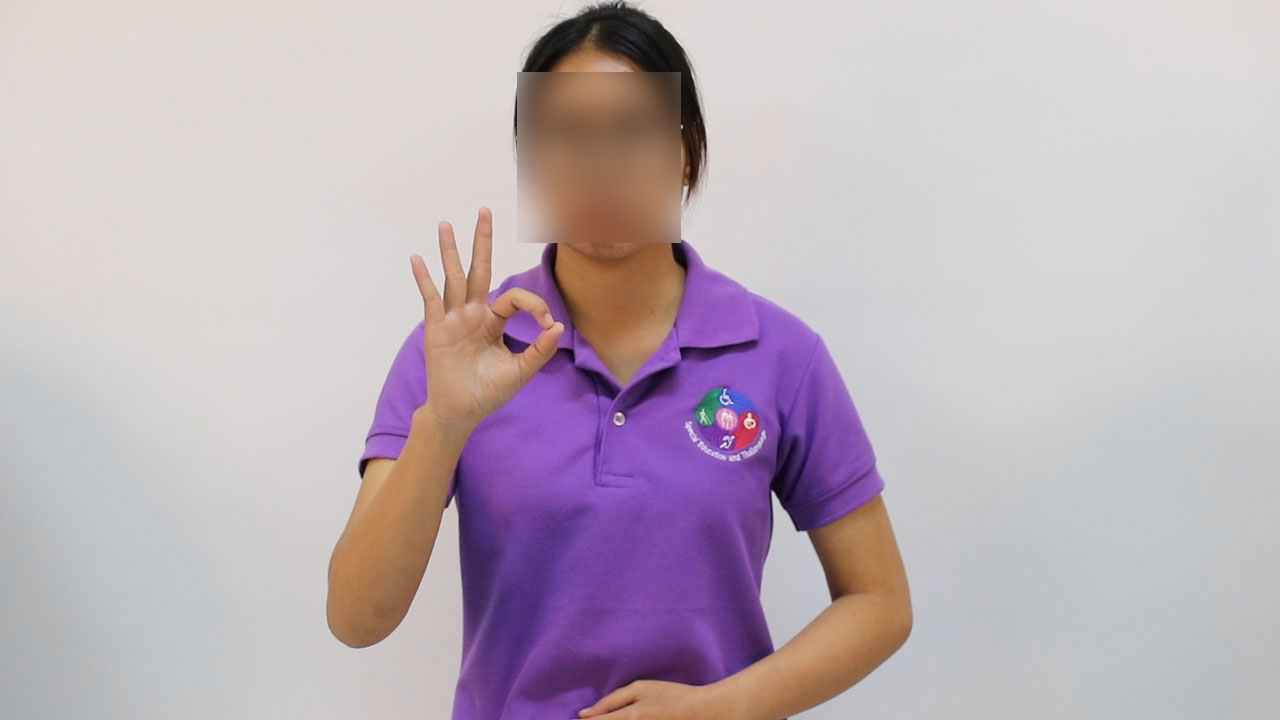for: (390, 199, 569, 437)
